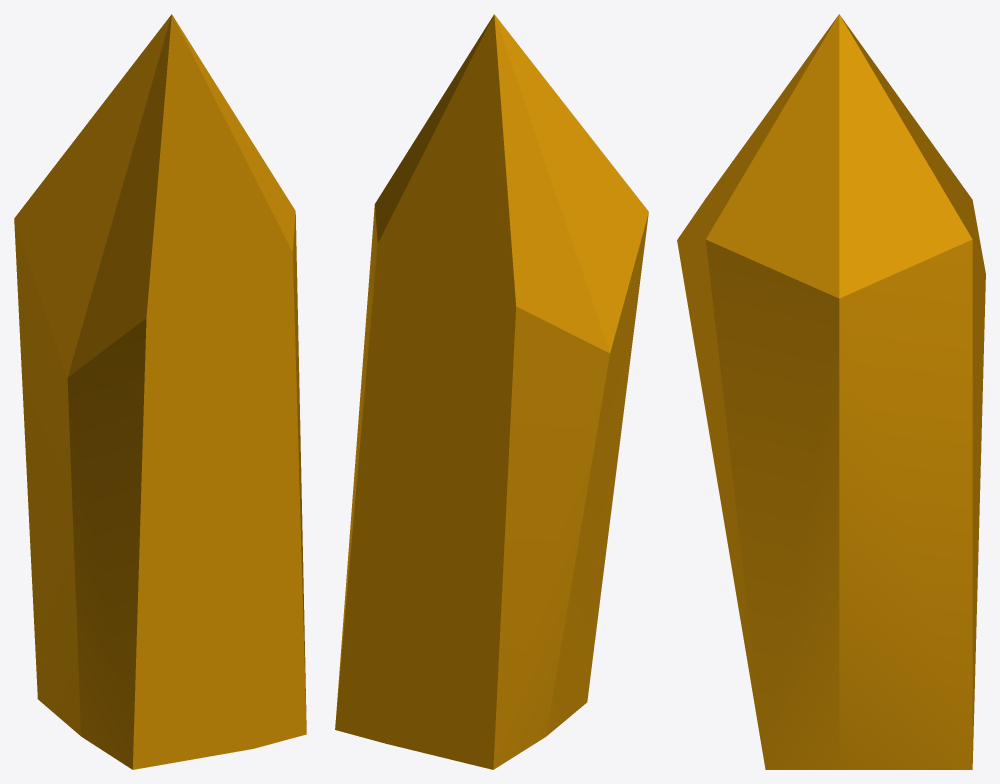
File: Small_Crystal_3_LOD.fbx
The picture shows the model from 3 angles, left to right: view 1: azimuth 30°, elevation 25°; view 2: azimuth 150°, elevation 25°; view 3: azimuth 270°, elevation 25°; orthographic projection. The views are drawn at different scales.
Visible parts, largest first — view 1: pCube11; view 2: pCube11; view 3: pCube11.
Part boxes in pixels (x1=…): pCube11: x1=14, y1=14, x2=306, y2=769; pCube11: x1=335, y1=14, x2=648, y2=769; pCube11: x1=677, y1=14, x2=985, y2=769.
Size of the model in its own units: 1.92 by 5.57 by 2.2.
